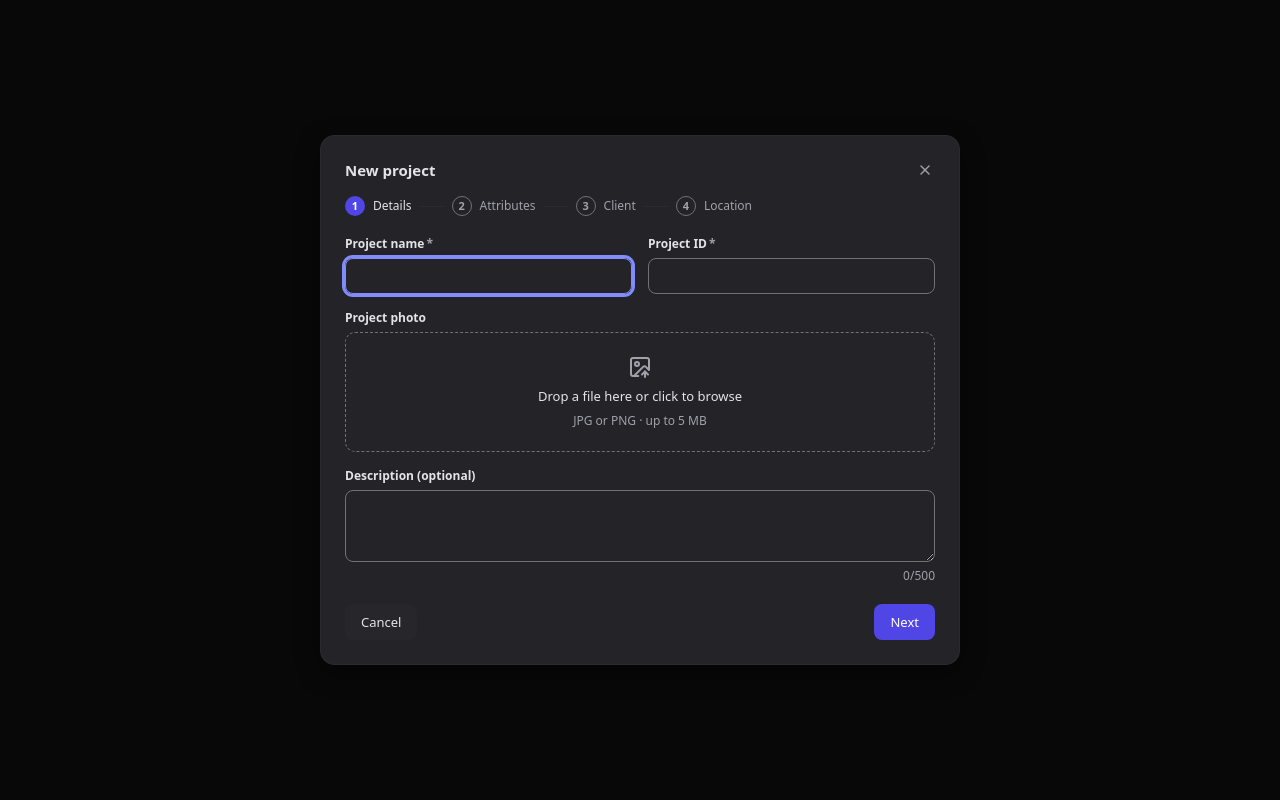
Test: NewProjectWizard › returns to step 1 without a request when the ID turns out taken after step 1 (D12)
Expected: the dialog "New project" is shown, [320,135,960,665]
Type "Pier 9" into the field labelled "Project name" at (488, 276), box [345,258,632,294]
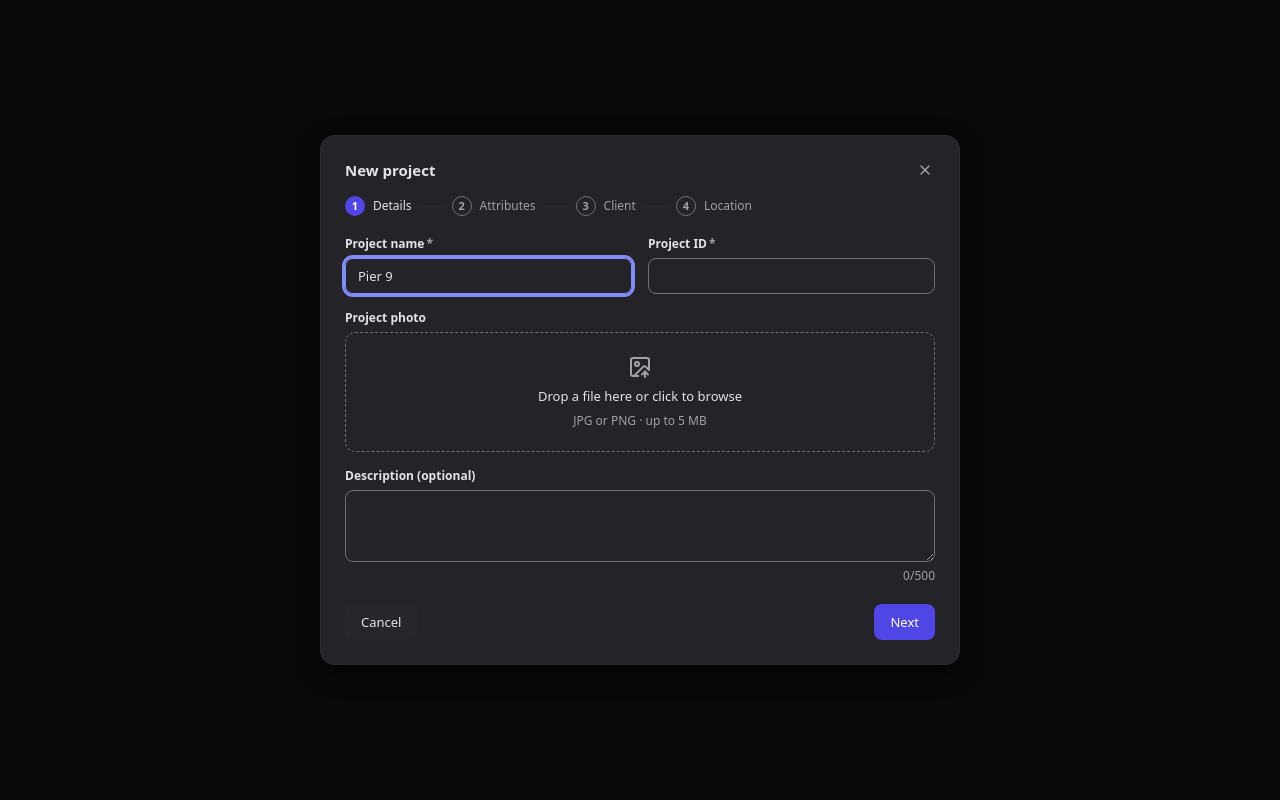
Type "001" into the field labelled "Project ID" at (792, 276), box [648,258,935,294]
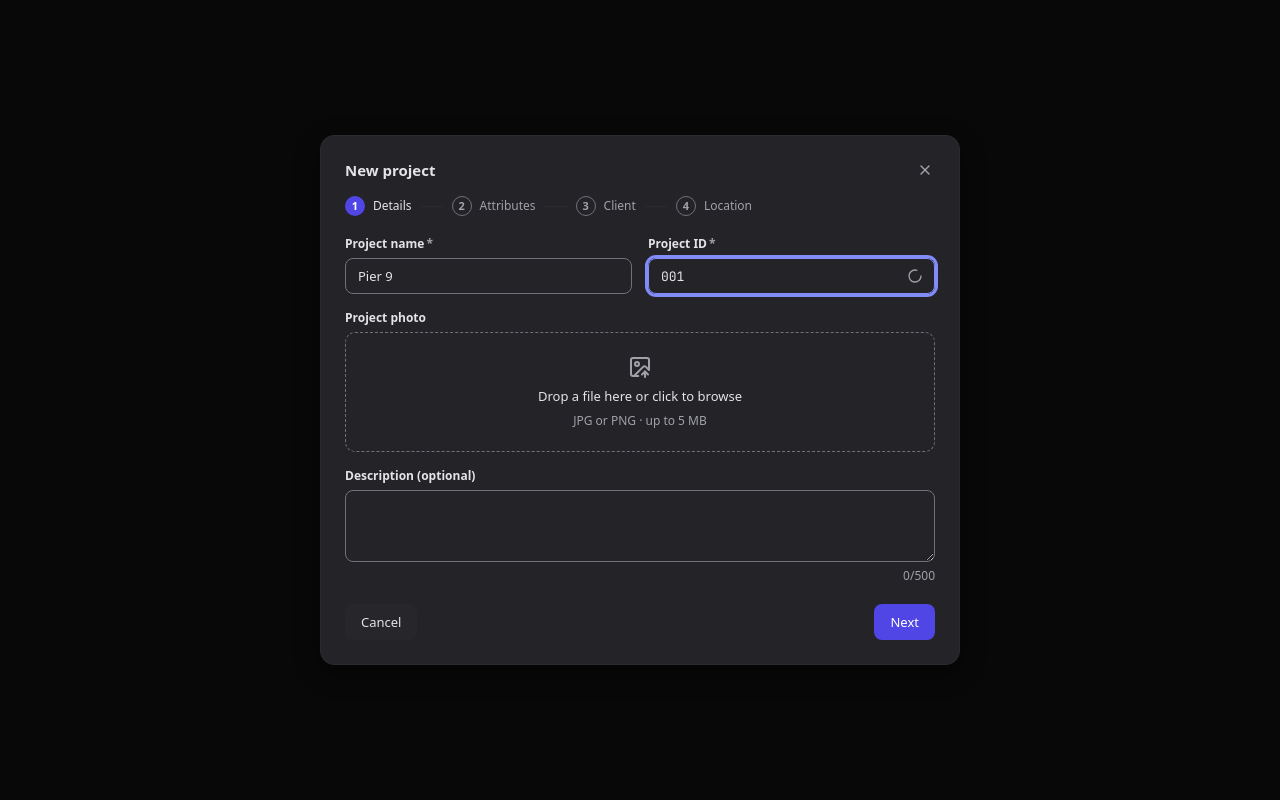
Click the button "Next" at (905, 622), box [874,604,935,640]
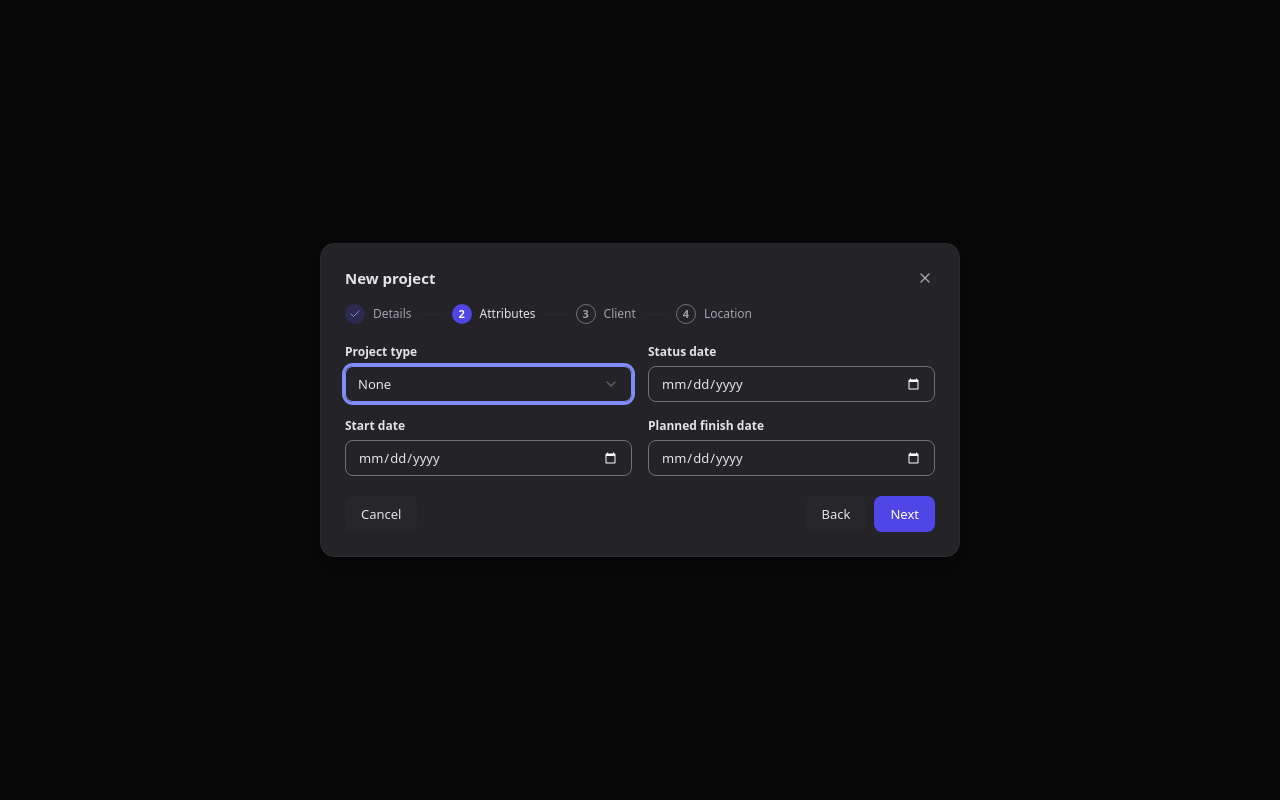
Click the button "Next" at (905, 514), box [874,496,935,532]
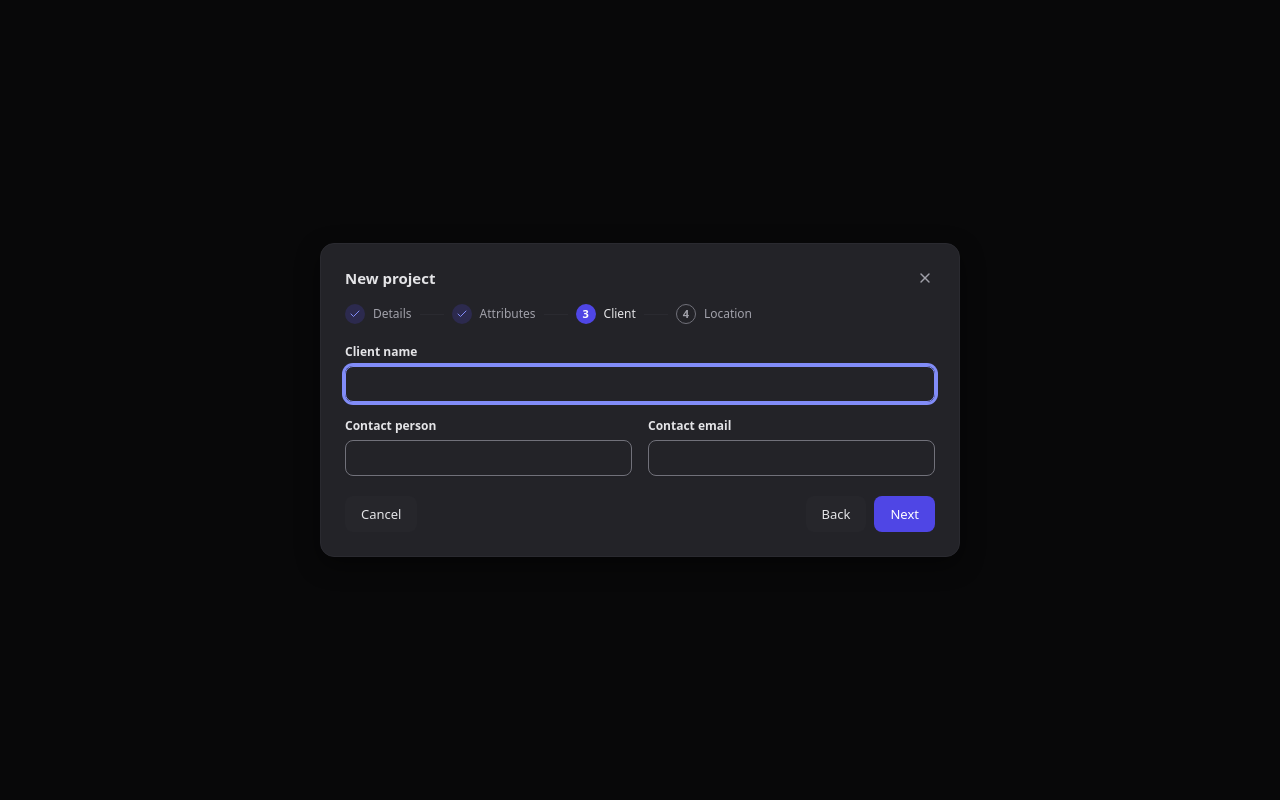
Click the button "Next" at (905, 514), box [874,496,935,532]
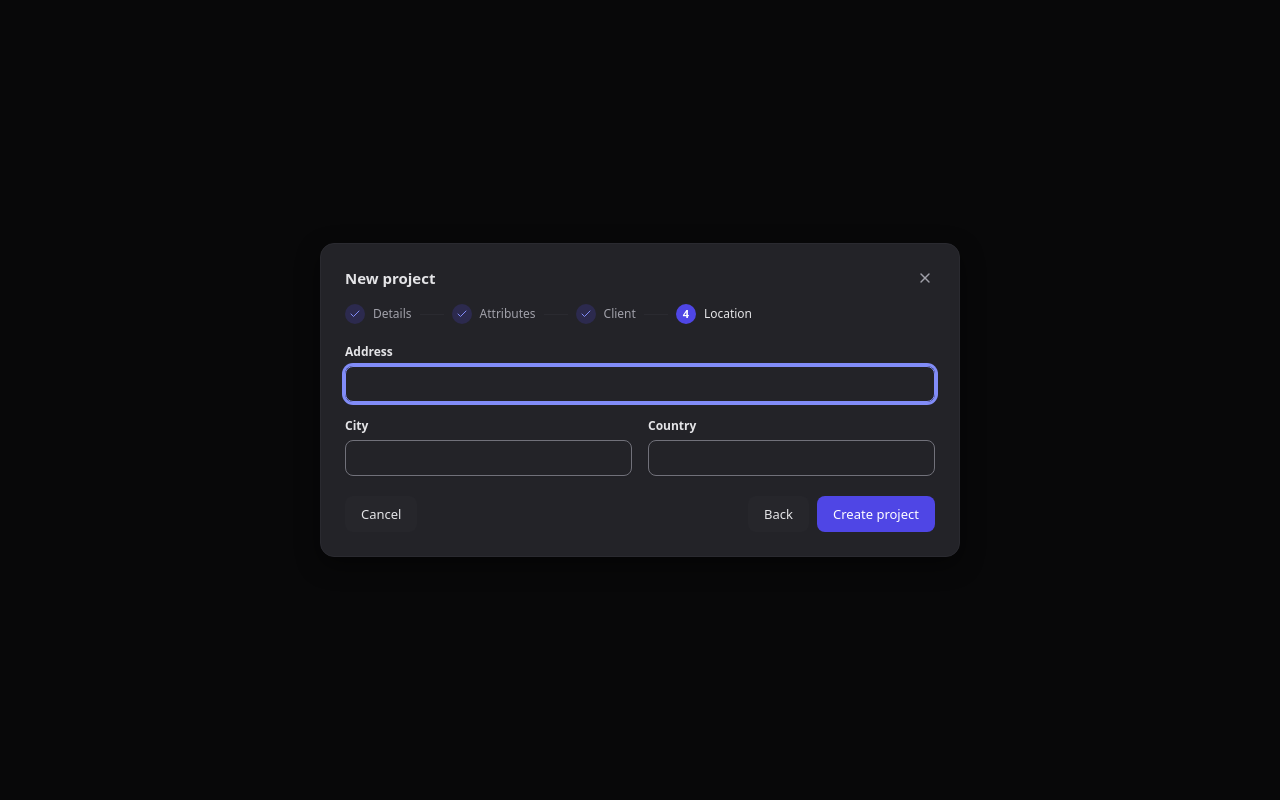
Result: the button "Create project" is enabled
Click the button "Create project" at (876, 514), box [817,496,935,532]
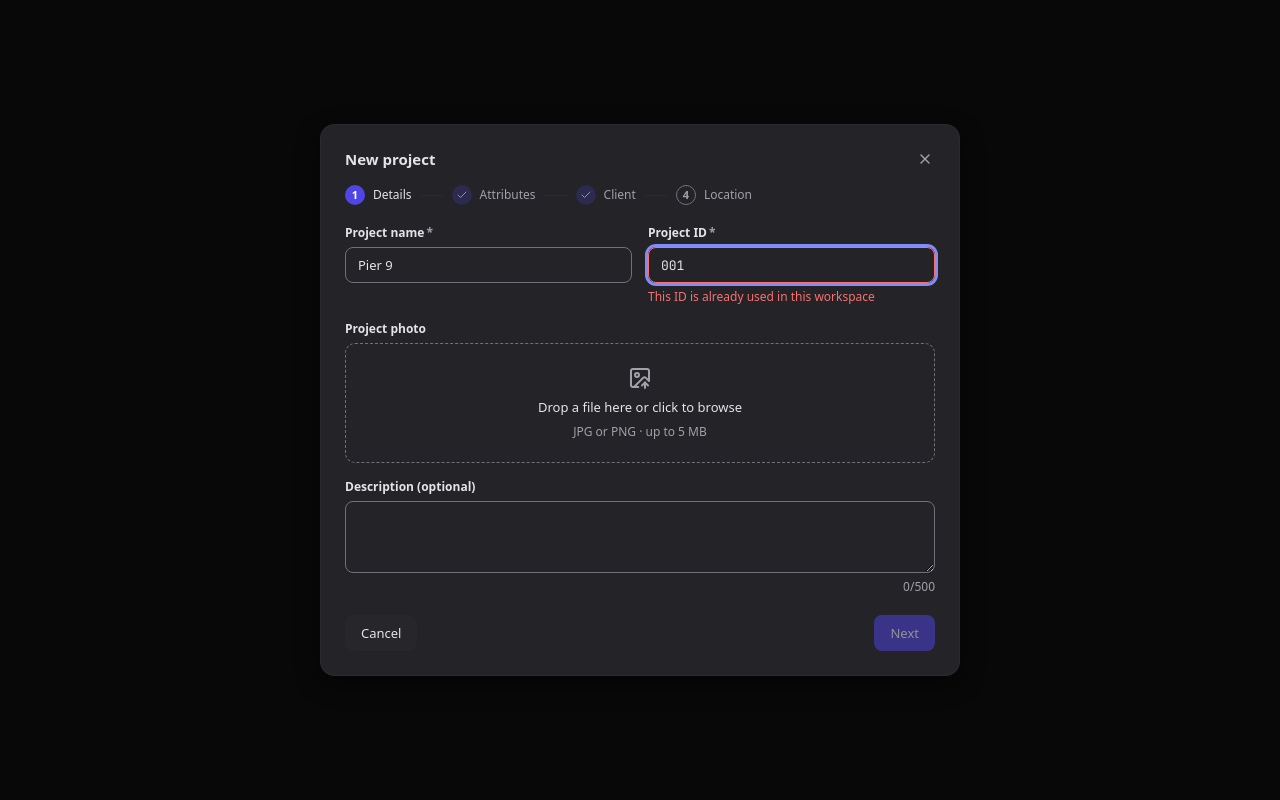
Result: the text "This ID is already used in this workspace" is shown at [648,288,875,305]
Result: the button "Next" is disabled at [874,615,935,651]
